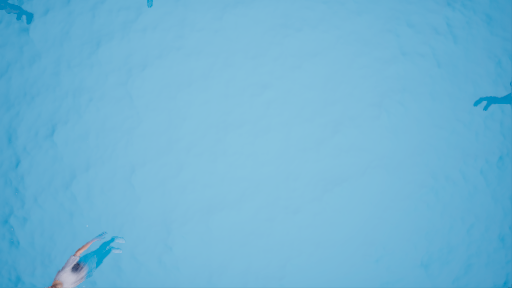person: (50, 233, 138, 288)
